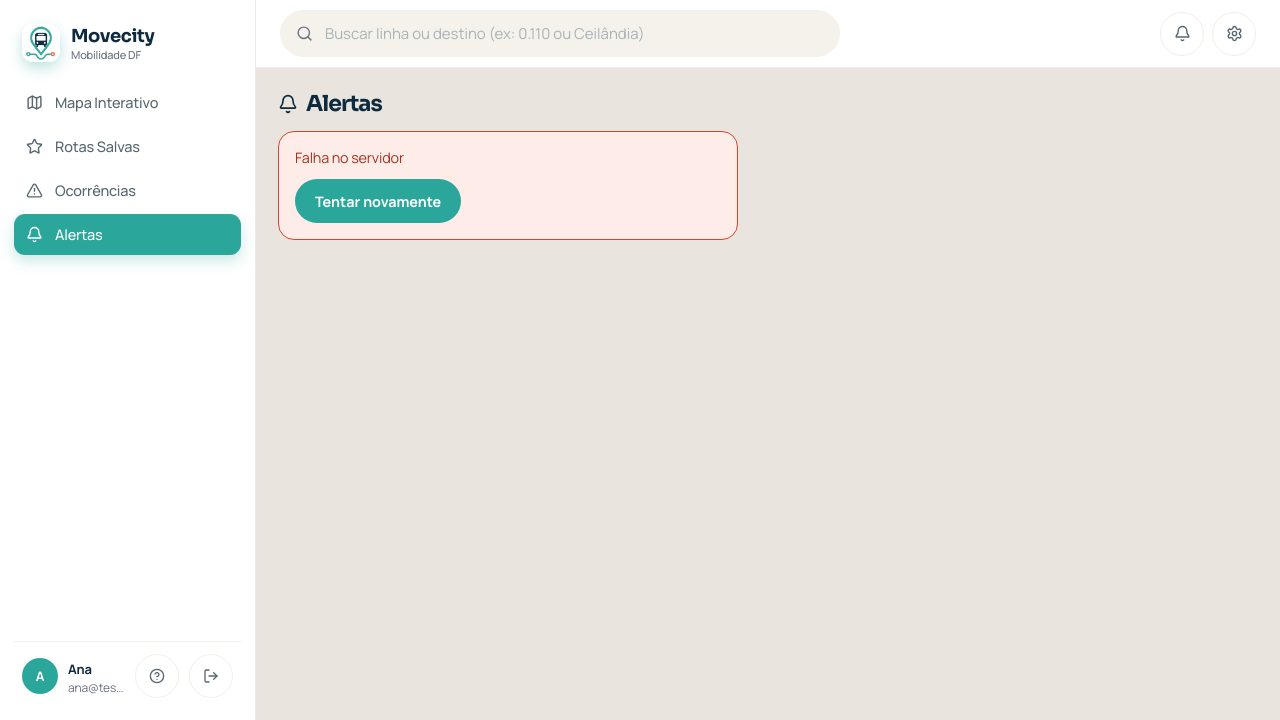
Test: Alertas (US #29) › erro de carga mostra mensagem e permite tentar de novo
Expected: the message shows "Falha no servidor", [295,148,404,167]
Click the button "Tentar novamente" at (378, 201), box [295,179,461,223]
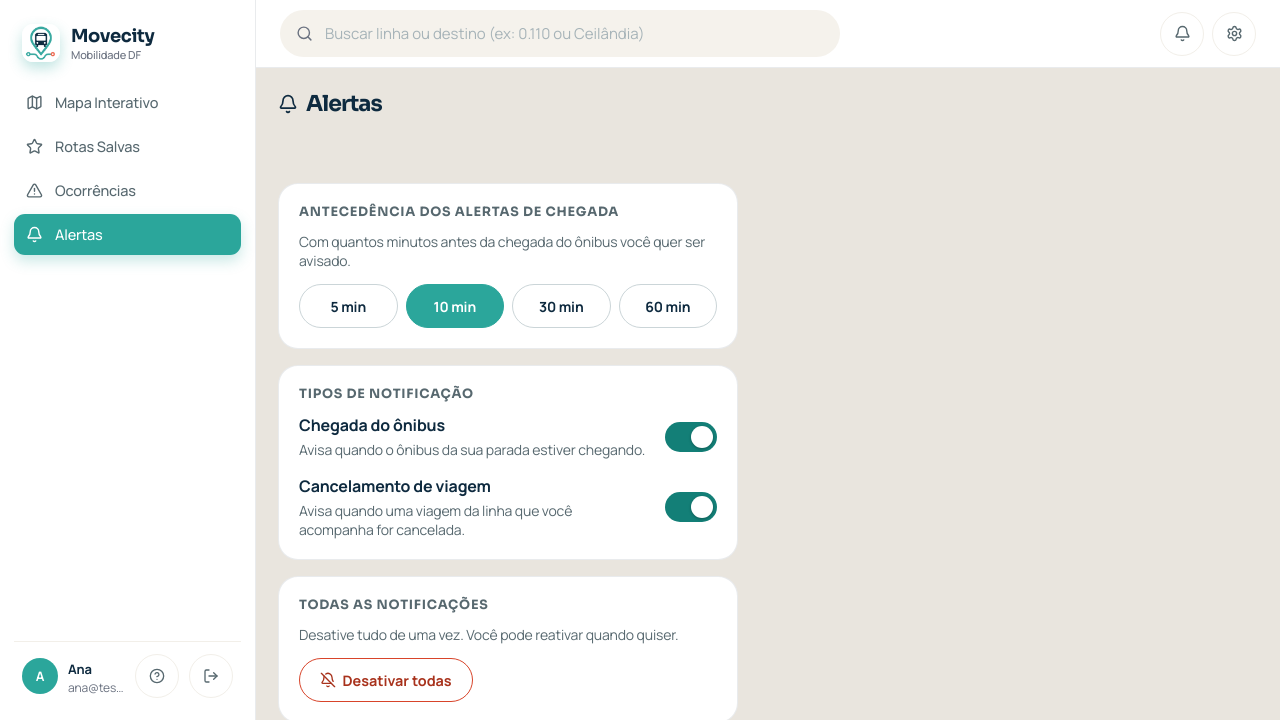
Expected: the element showing "5 min 10 min 30 min 60 min" is shown, [299,284,717,328]
